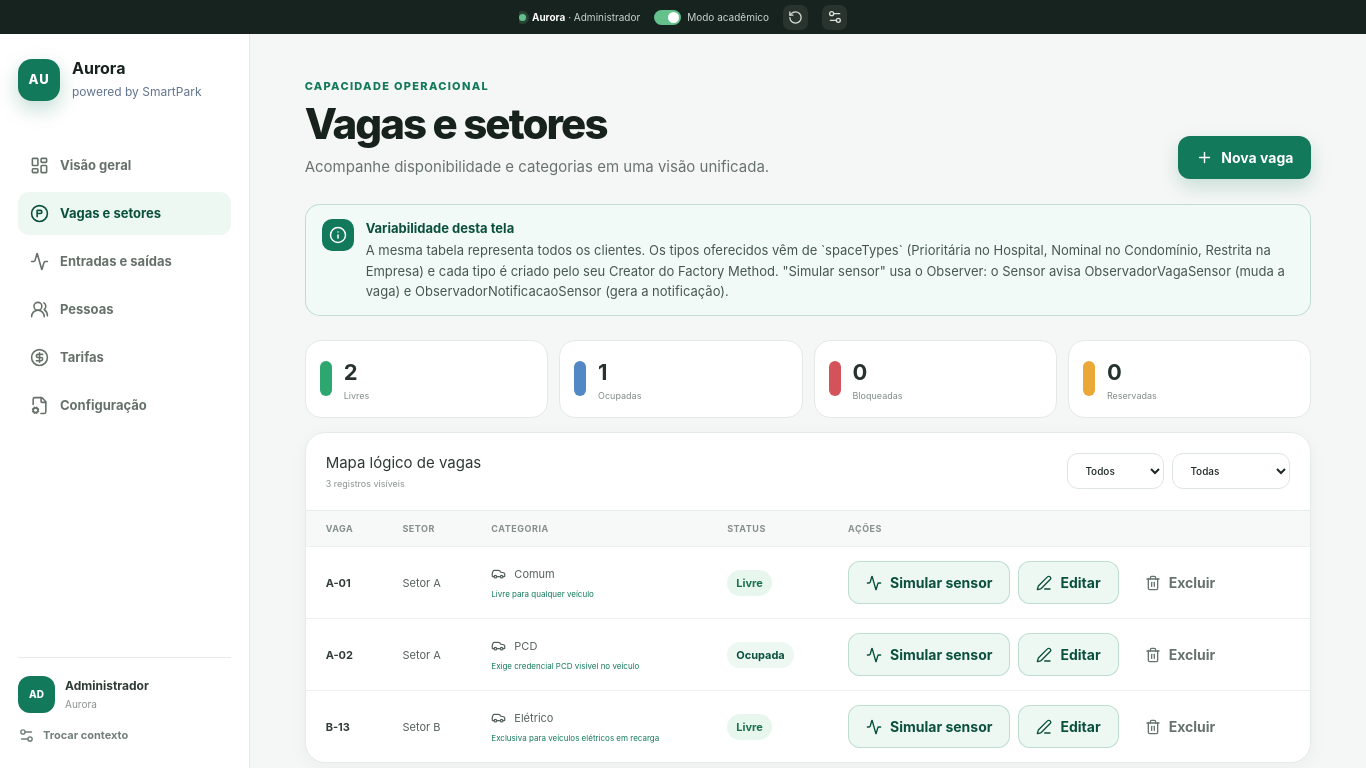
Test: vagas › exclui uma vaga livre
Click the button with aria-label "Excluir vaga A-01" at [1180, 583], box [1127,561,1233,604]
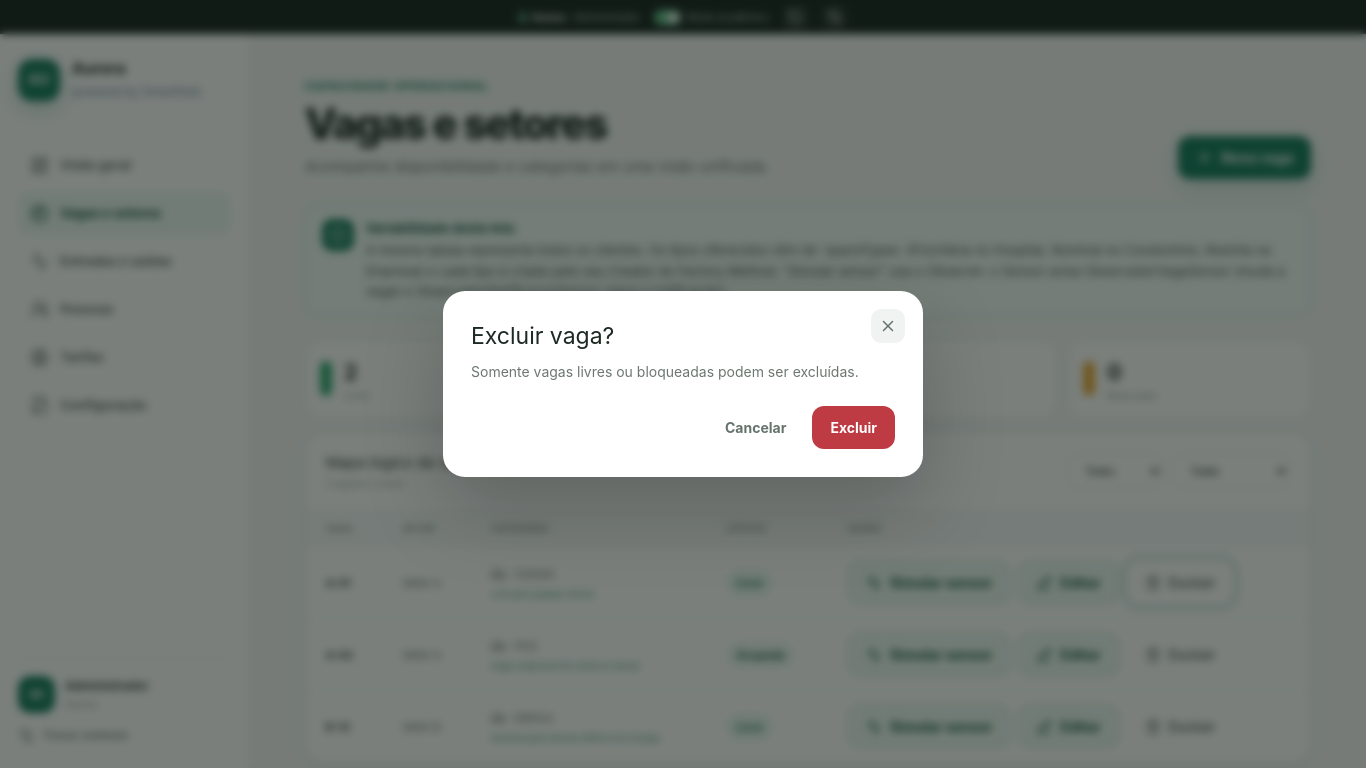
Click the button "Excluir" at [854, 427], box [812,406,895,449]
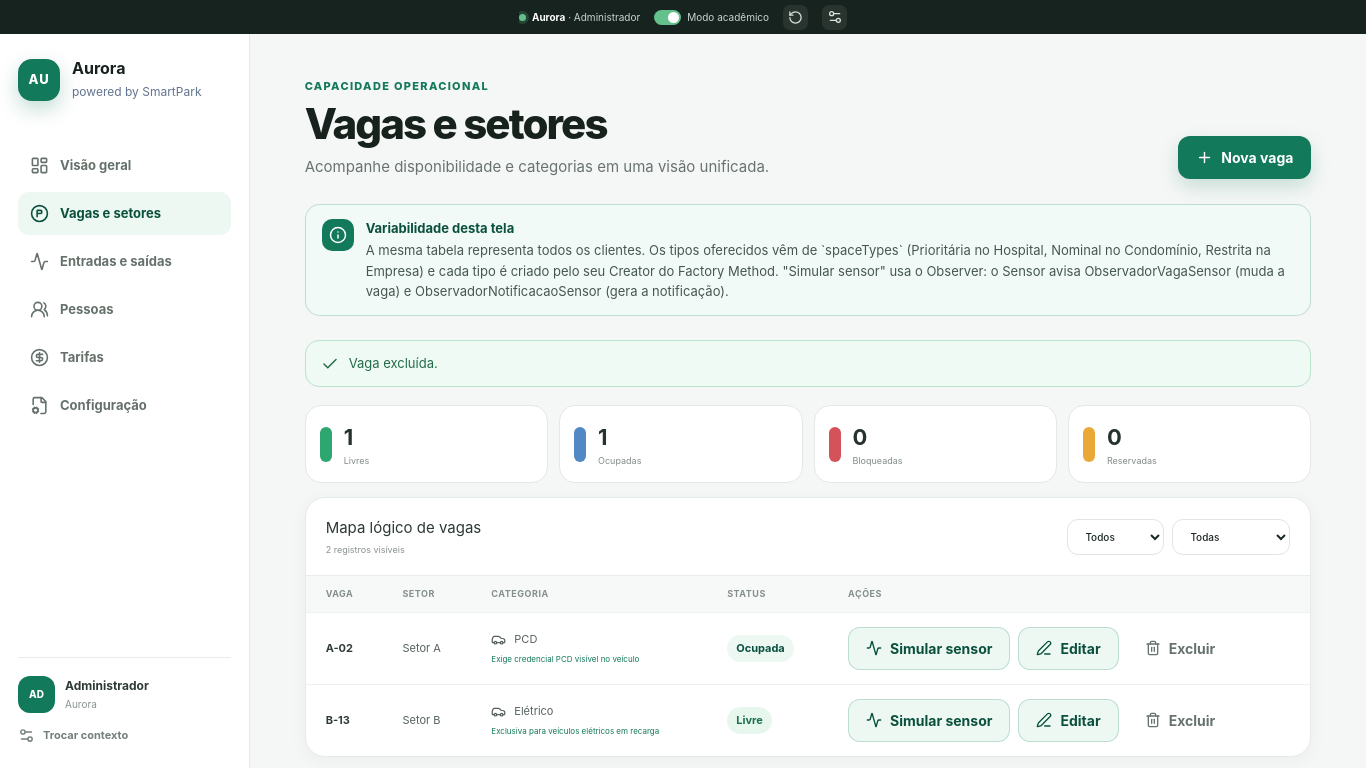
Result: the text "Vaga excluída." is shown at [349,354,438,373]
Result: the text "A-01" is gone
